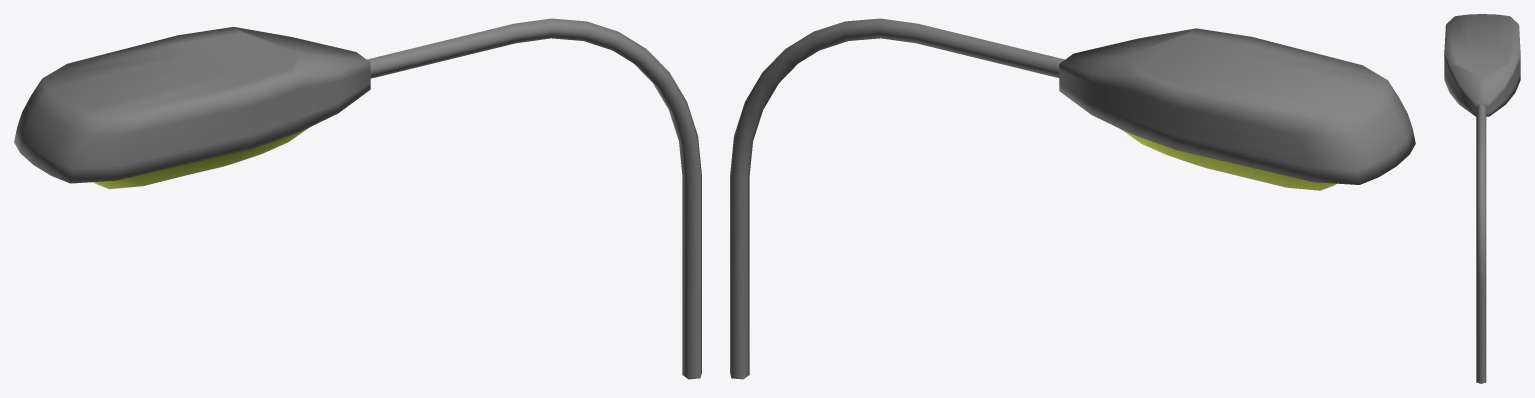
Rendered from SM_lamp_02.fbx.
3 renders of one model, left to right at view 1: azimuth 30°, elevation 25°; view 2: azimuth 150°, elevation 25°; view 3: azimuth 270°, elevation 25°, orthographic. The views are drawn at different scales.
Parts seen in each view (by area): view 1: Line167; view 2: Line167; view 3: Line167.
Part boxes in pixels (x1,y1,x2,y2): Line167: [14, 18, 701, 379]; Line167: [730, 18, 1415, 379]; Line167: [1444, 14, 1520, 383].
Size of the model in its own units: 64.26 by 39.34 by 12.73.
